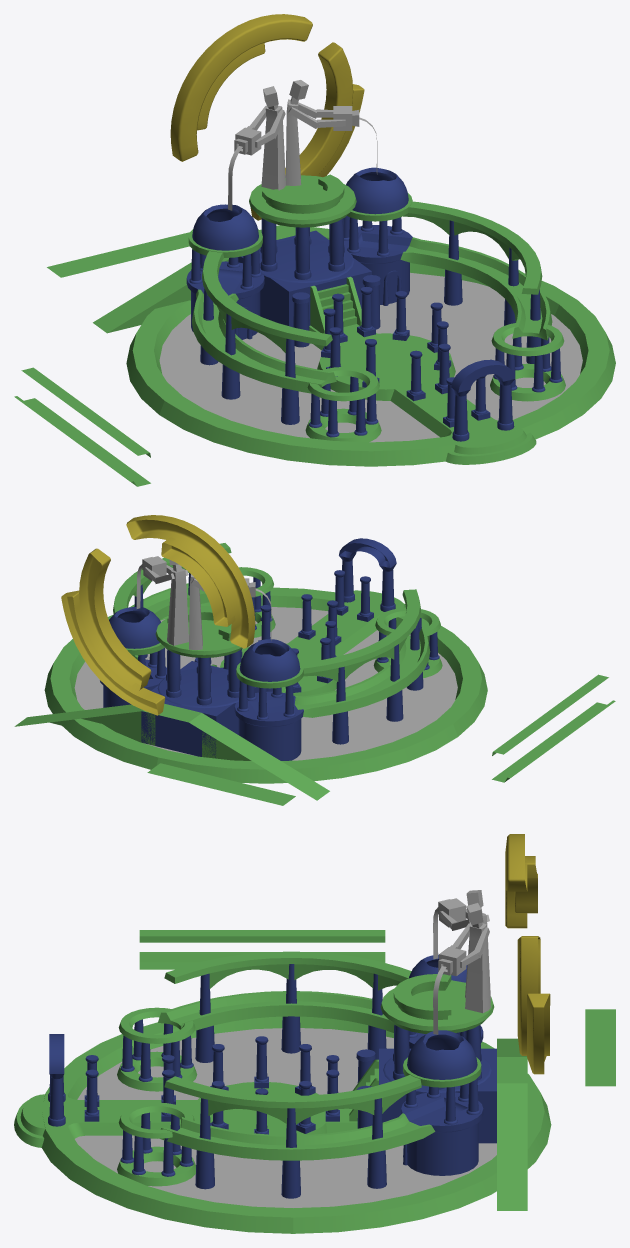
Rendered from SM_Building_Temple.fbx.
The picture shows the model from 3 angles, top to bottom: view 1: azimuth 30°, elevation 25°; view 2: azimuth 150°, elevation 25°; view 3: azimuth 270°, elevation 25°; orthographic projection. The views are drawn at different scales.
Parts seen in each view (by area): view 1: pCylinder691; view 2: pCylinder691; view 3: pCylinder691.
Boxes of the visible parts, left/top/right/bottom form: pCylinder691: left=14, top=14, right=615, bottom=486; pCylinder691: left=14, top=515, right=615, bottom=805; pCylinder691: left=14, top=834, right=615, bottom=1233.
Bounding box in the file's own units: 2081 × 1007 × 1958.
